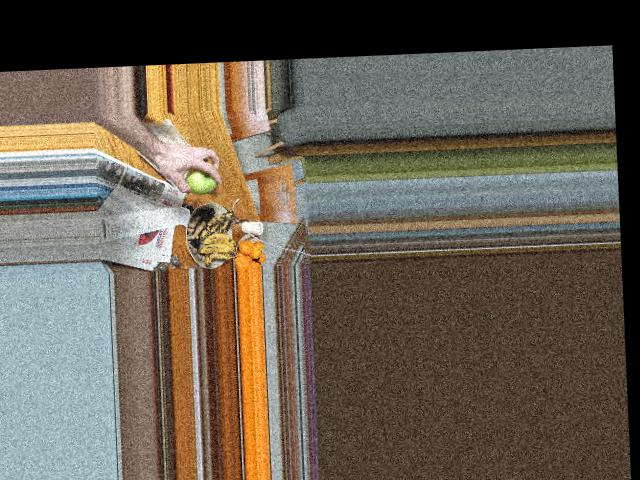apple: (178, 160, 222, 194)
